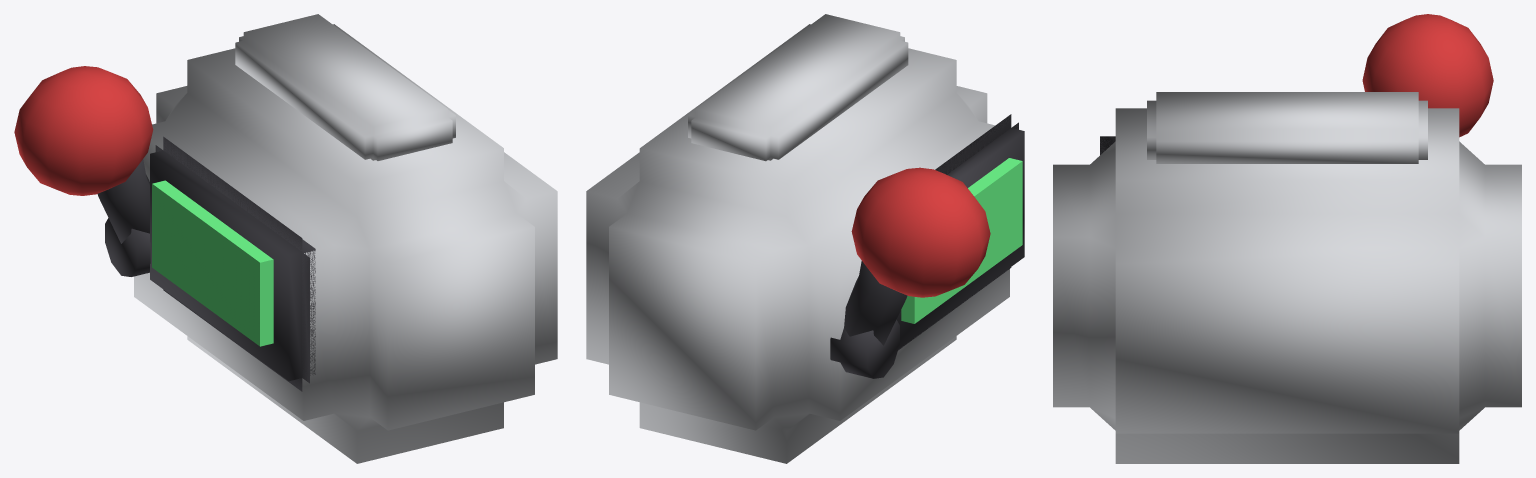
Rendered from reel_electric.fbx.
3 views of the same model, side by side, from view 1: azimuth 30°, elevation 25°; view 2: azimuth 150°, elevation 25°; view 3: azimuth 270°, elevation 25° (orthographic).
Visible parts, largest first — view 1: Body, Crank; view 2: Body, Crank; view 3: Body, Crank.
Boxes of the visible parts, x1=… form: Body: x1=134, y1=14, x2=557, y2=463; Crank: x1=14, y1=66, x2=153, y2=276; Body: x1=586, y1=14, x2=1024, y2=463; Crank: x1=830, y1=167, x2=990, y2=378; Body: x1=1053, y1=92, x2=1521, y2=463; Crank: x1=1362, y1=14, x2=1493, y2=137.
Bounding box in the file's own units: 0.1527 × 0.12 × 0.1607.
